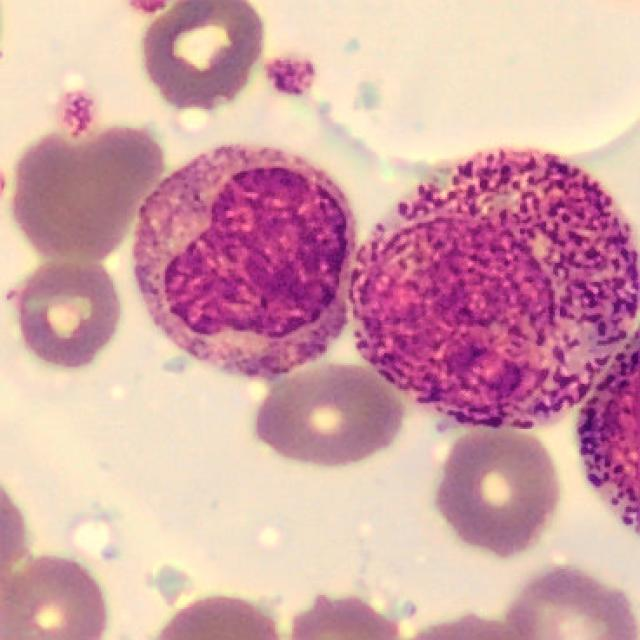Mielocito: (130, 141, 356, 377)
Promielocito: (346, 150, 640, 432)
